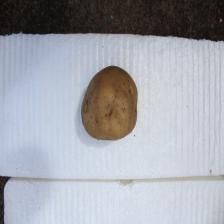Diseased-fungal potato: (80, 61, 140, 145)
